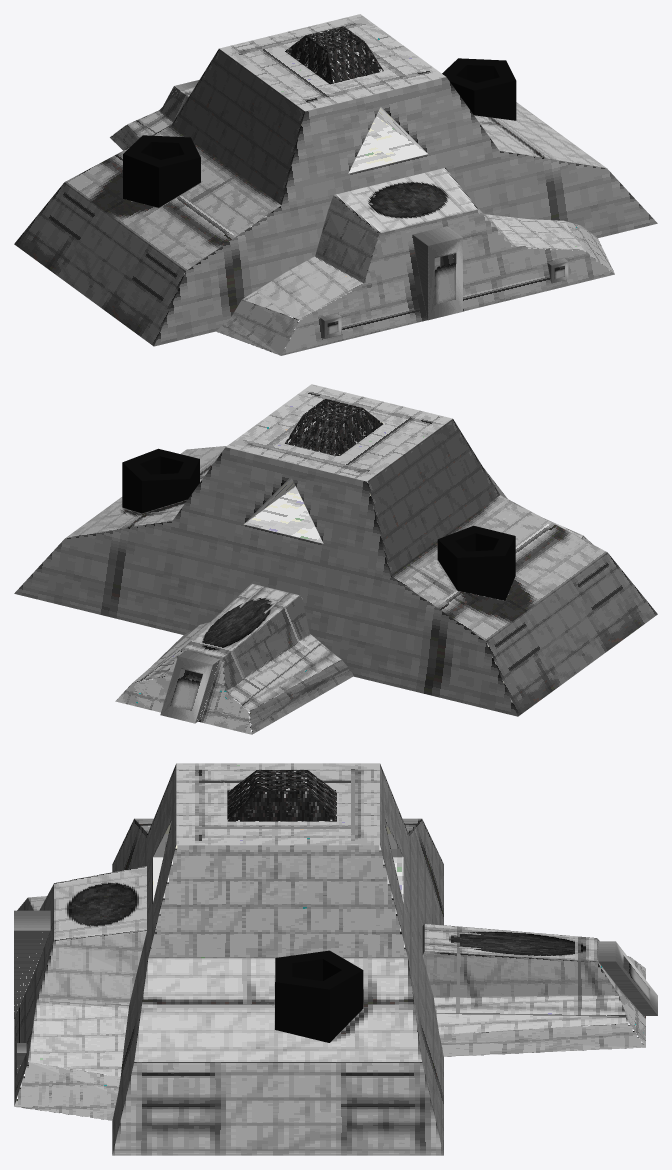
The model's file is icebasee.obj.
3 renders of one model, top to bottom at view 1: azimuth 30°, elevation 25°; view 2: azimuth 150°, elevation 25°; view 3: azimuth 270°, elevation 25°, orthographic. The views are drawn at different scales.
Size of the model in its own units: 10.26 by 3.77 by 9.59.
29 materials, 28 textured.
